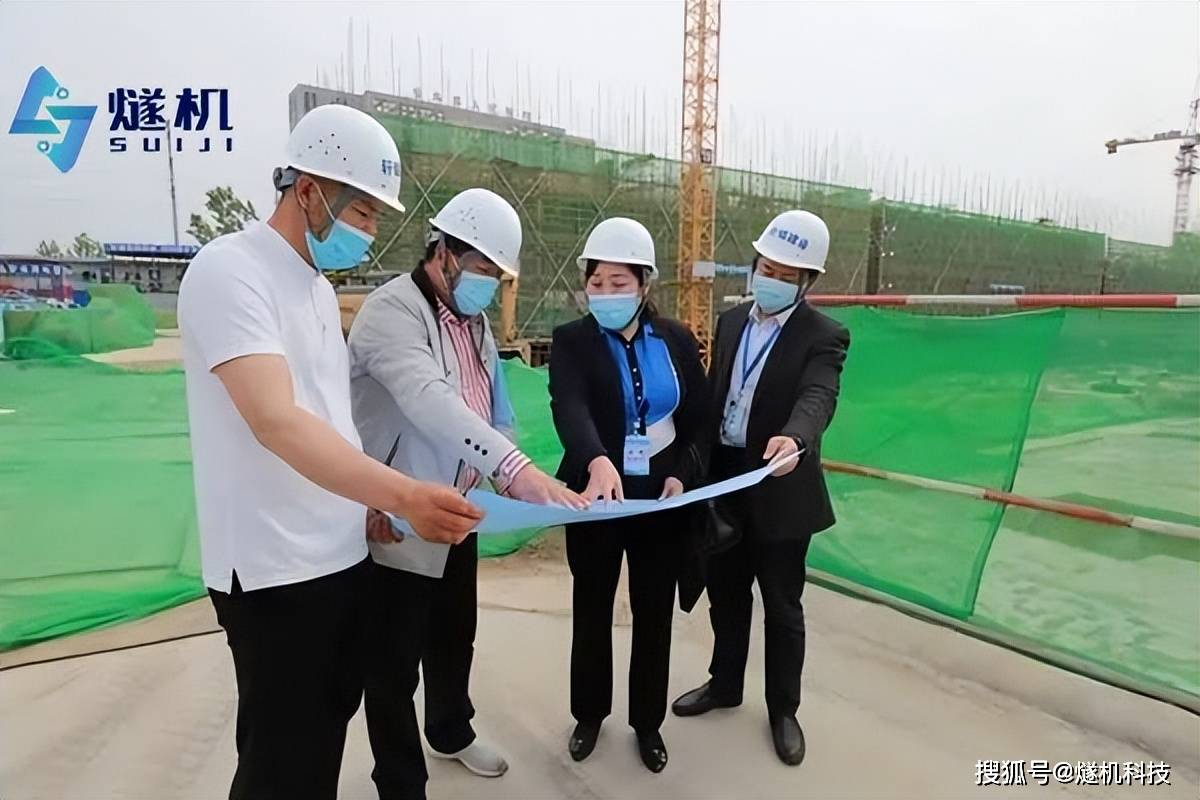ordinary_clothes: (173, 218, 369, 595), (344, 270, 518, 582), (705, 304, 850, 542), (547, 309, 707, 499)
person: (173, 101, 488, 800), (346, 185, 588, 800), (669, 203, 852, 769), (546, 212, 709, 772)
safety_helmet: (268, 101, 406, 280), (419, 186, 526, 319), (575, 214, 660, 334), (744, 204, 832, 317)
